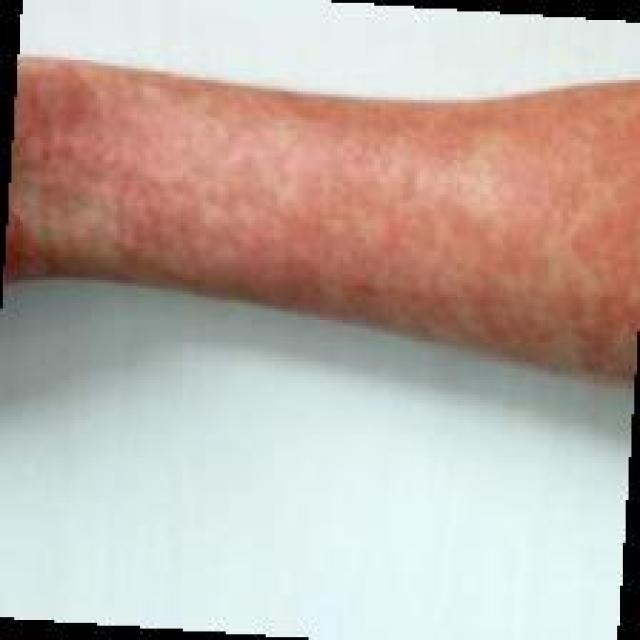others: (0, 60, 637, 351)
